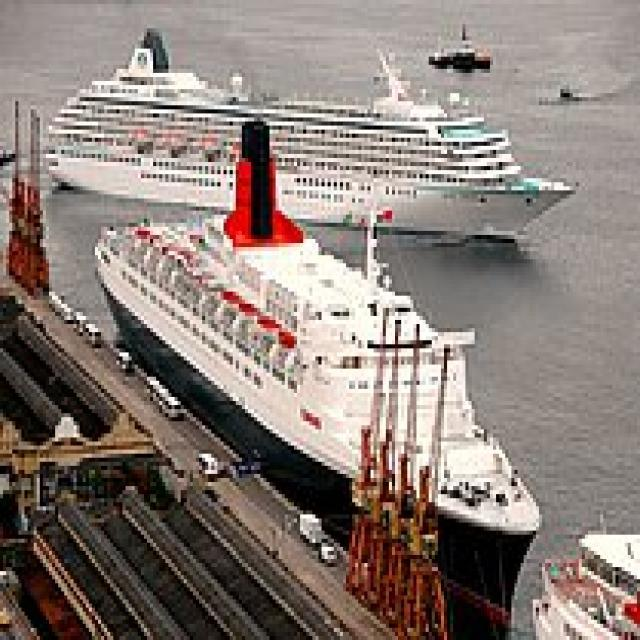Ship: (87, 123, 553, 605), (32, 17, 583, 252)
